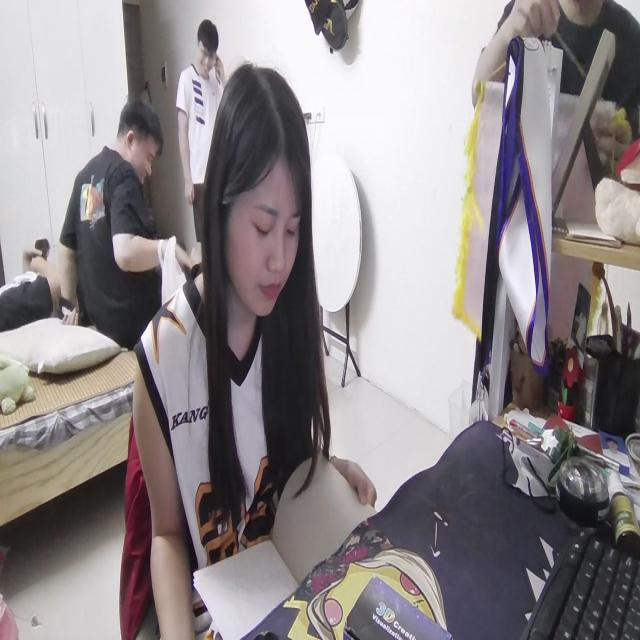book: (194, 447, 370, 627)
extra_person: (56, 96, 181, 346), (476, 0, 640, 141), (176, 16, 231, 219)
student: (135, 57, 373, 640)
